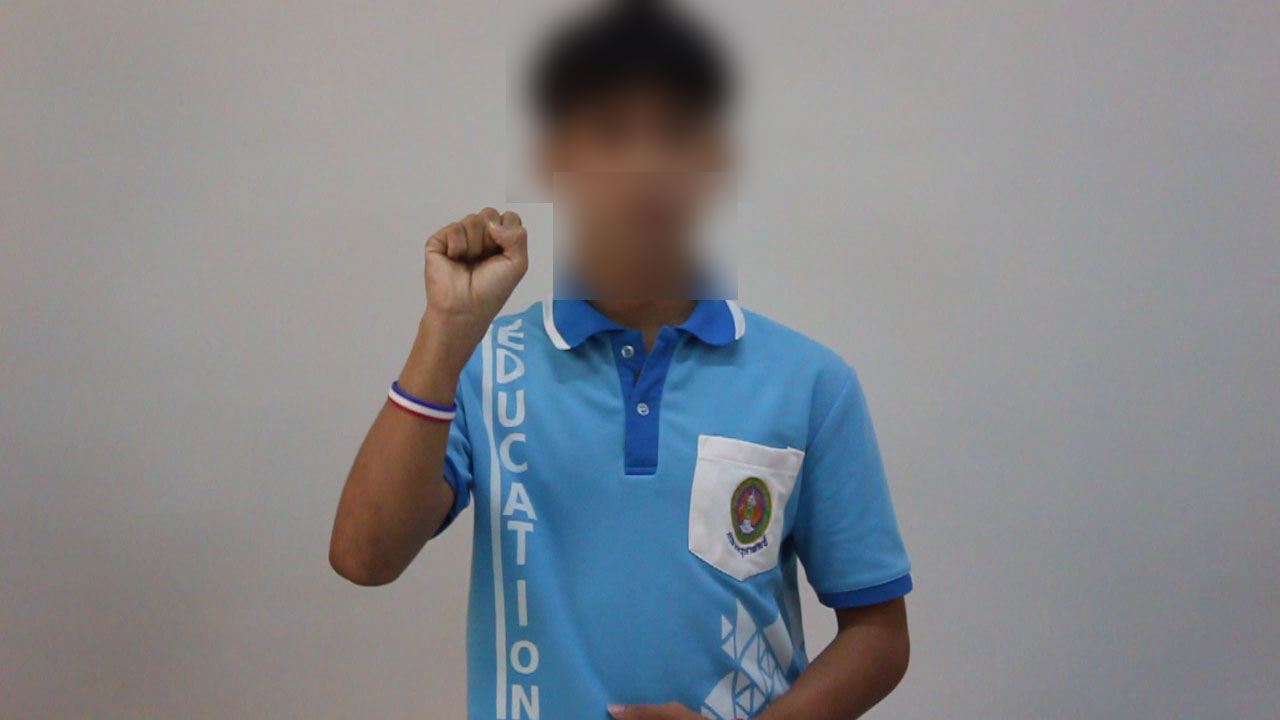sor: (396, 192, 539, 343)
